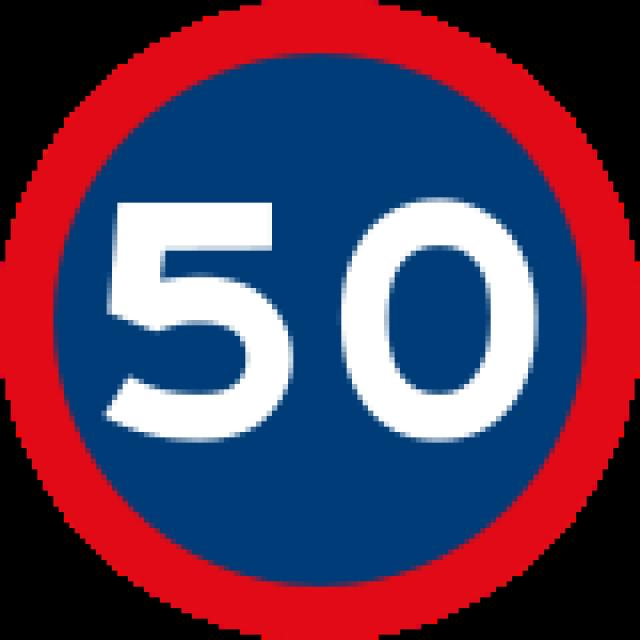Speed Limit -50-: (91, 177, 547, 461)
